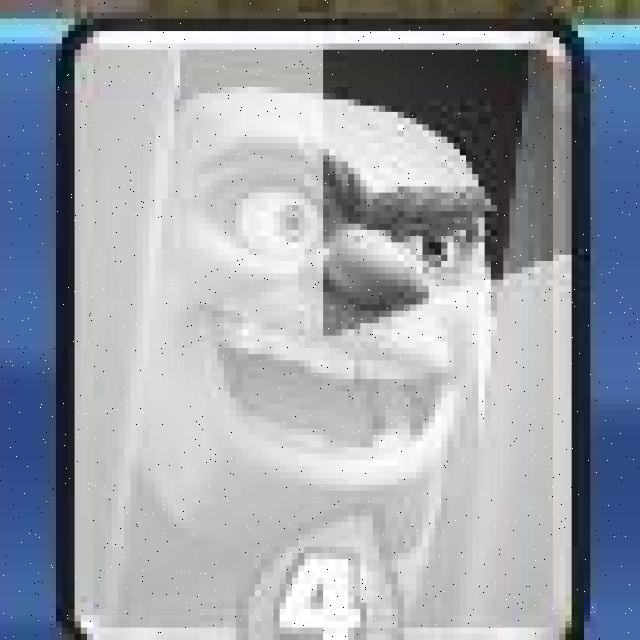Goblin_Cage: (67, 20, 577, 640)
